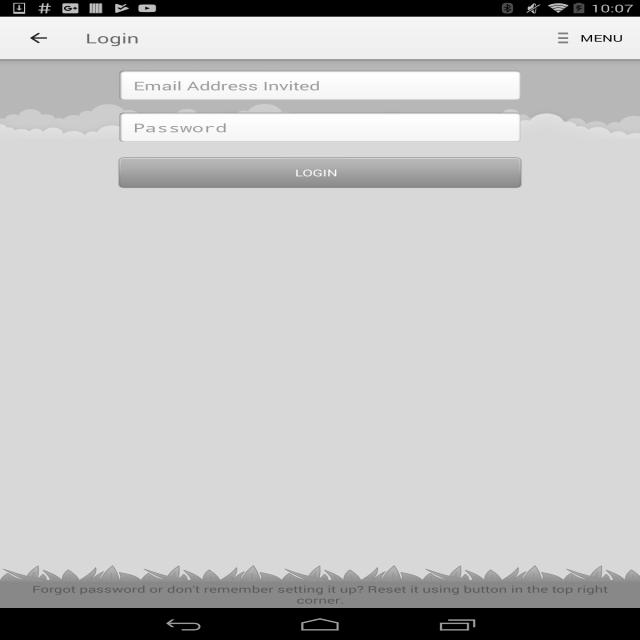Button: (117, 156, 523, 188)
EditText: (117, 70, 523, 102), (117, 112, 523, 144)
ImageButton: (9, 17, 68, 59)
TextView: (0, 581, 640, 608), (538, 22, 632, 54), (86, 29, 140, 47)
